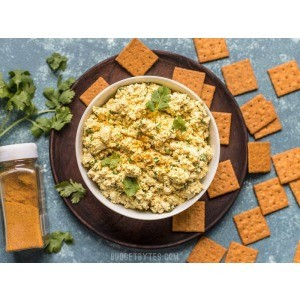tofu_brain food: (93, 110, 204, 184)
